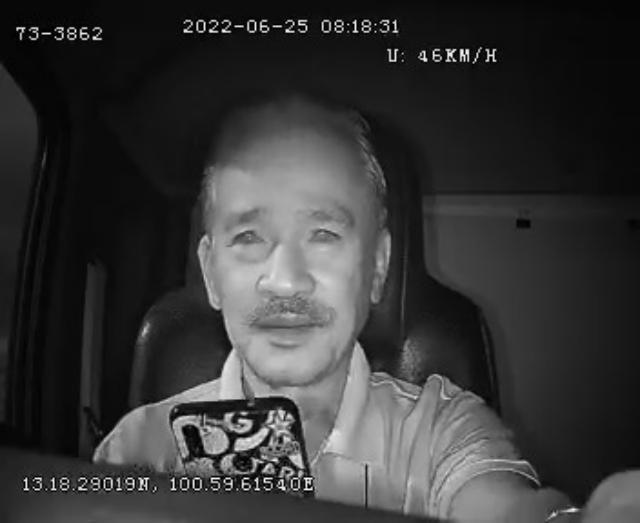PhoneUse: (169, 394, 313, 479)
SafeDriving: (219, 212, 274, 260), (300, 212, 350, 252)
